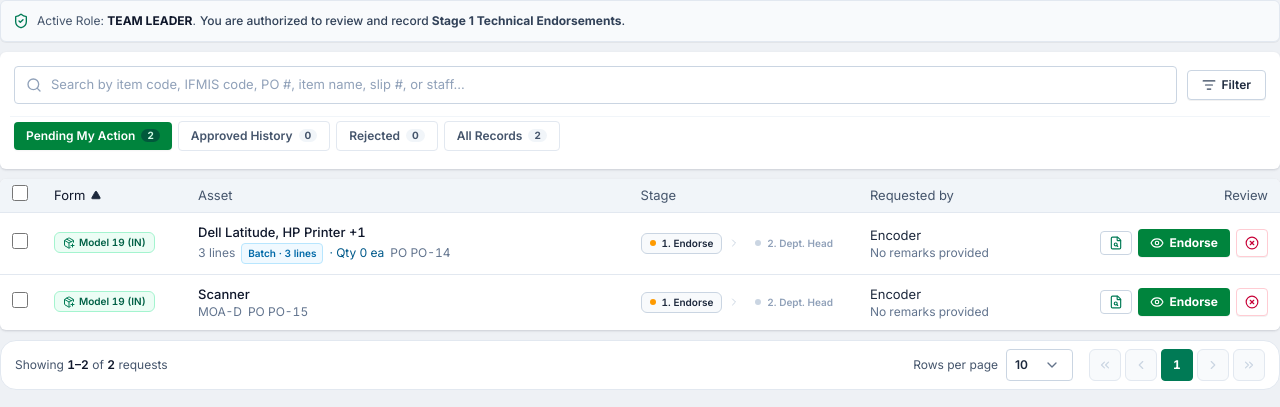
Test: Approvals: one row per Model 19 › finds a receipt by its item code or batch item codes
expect the text "3 lines" is shown: met, box [198,245,235,261]
Type "MOA-B" into the field with placeholder "Search" at (595, 85), box [14,66,1176,104]
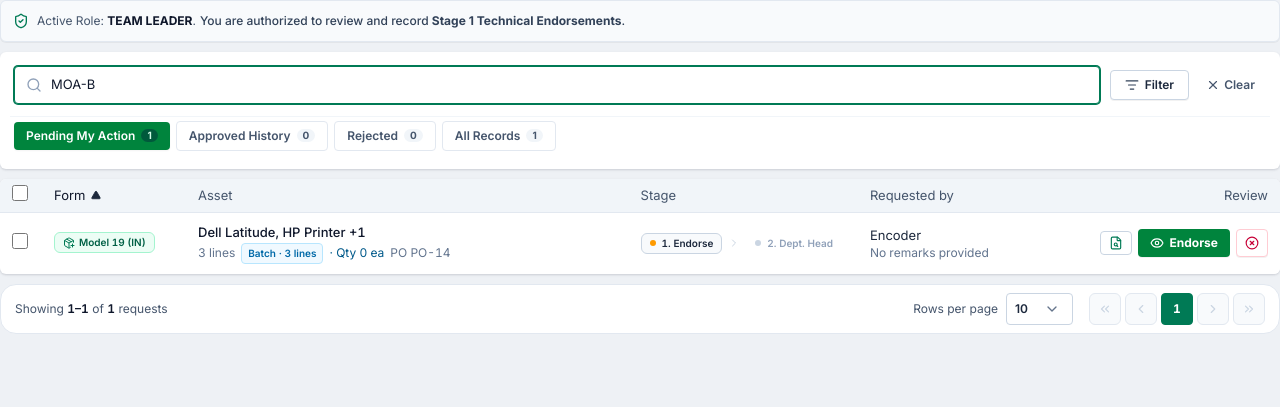
expect the text "3 lines" is shown: met, box [198,245,235,261]
expect the text "MOA-D" is gone: met
Clear the field with placeholder "Search" at (557, 85), box [14,66,1100,104]
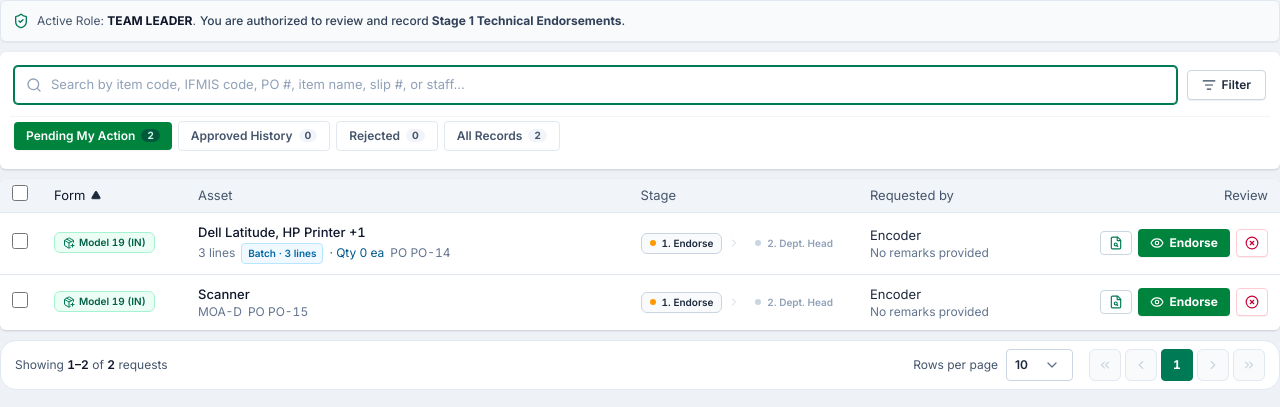
Type "MOA-D" into the field with placeholder "Search" at (595, 85), box [14,66,1176,104]
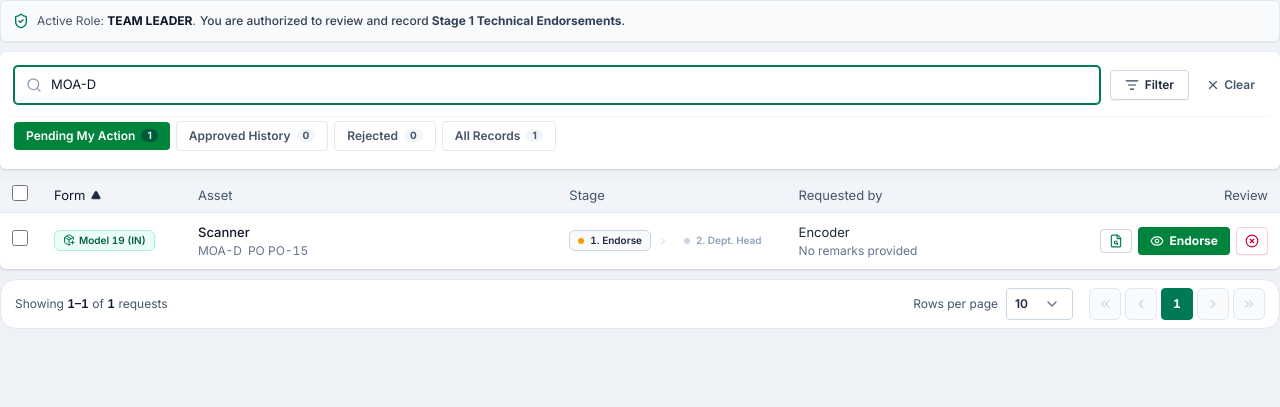
expect the text "MOA-D" is shown: met, box [198,242,242,258]
expect the text "3 lines" is gone: met
